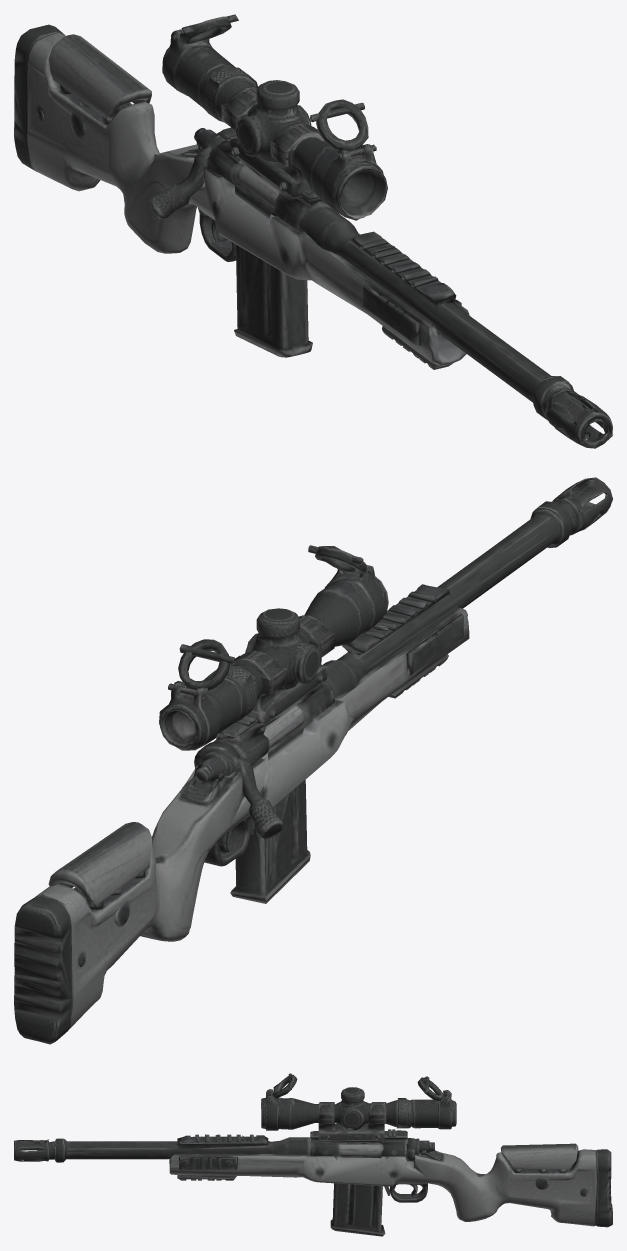
File: dmr.glb
3 renders of one model, top to bottom at view 1: azimuth 30°, elevation 25°; view 2: azimuth 150°, elevation 25°; view 3: azimuth 270°, elevation 25°, orthographic. The views are drawn at different scales.
Visible parts, largest first — view 1: w_dmr; view 2: w_dmr; view 3: w_dmr.
Boxes of the visible parts, x1,y1,x2,y2 form: w_dmr: (14, 14, 612, 448); w_dmr: (14, 477, 612, 1044); w_dmr: (14, 1073, 612, 1236).
Bounding box in the file's own units: 0.0949 × 0.2734 × 0.95.
Materials: 1 (1 with a texture image).
